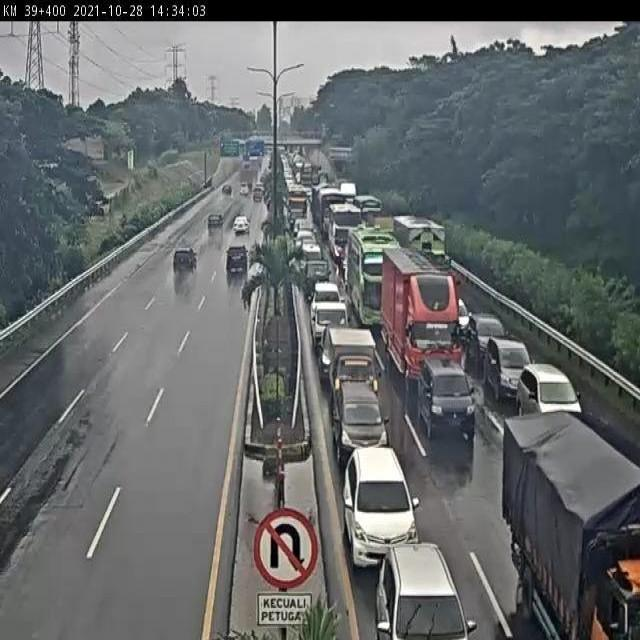big bus: (348, 228, 401, 329), (322, 202, 362, 258), (286, 186, 308, 226)
big truck: (484, 406, 640, 640), (380, 247, 459, 393), (392, 212, 456, 284), (318, 190, 347, 238)
car: (367, 512, 463, 639), (343, 448, 421, 565), (416, 356, 478, 447), (322, 328, 384, 405), (327, 382, 389, 458), (488, 339, 533, 401), (520, 364, 580, 409), (309, 296, 350, 352), (466, 313, 508, 360), (298, 258, 330, 298), (447, 293, 470, 335), (226, 242, 248, 274), (171, 247, 196, 274), (296, 238, 320, 266), (312, 278, 340, 302), (230, 213, 252, 235), (207, 212, 226, 235), (294, 222, 312, 242)
